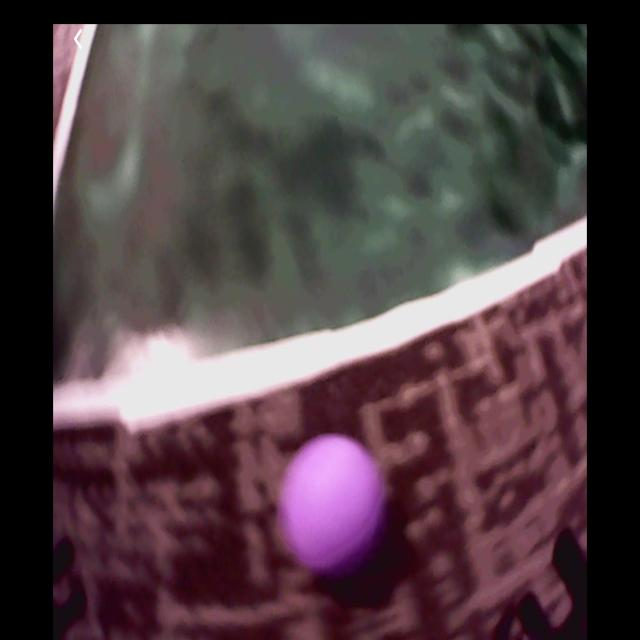ball: (280, 435, 387, 585)
